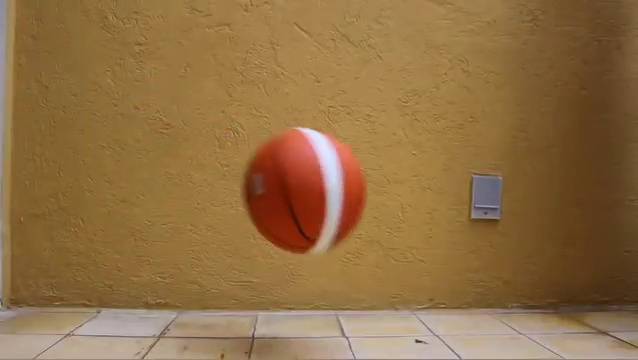ball: (245, 125, 368, 255)
